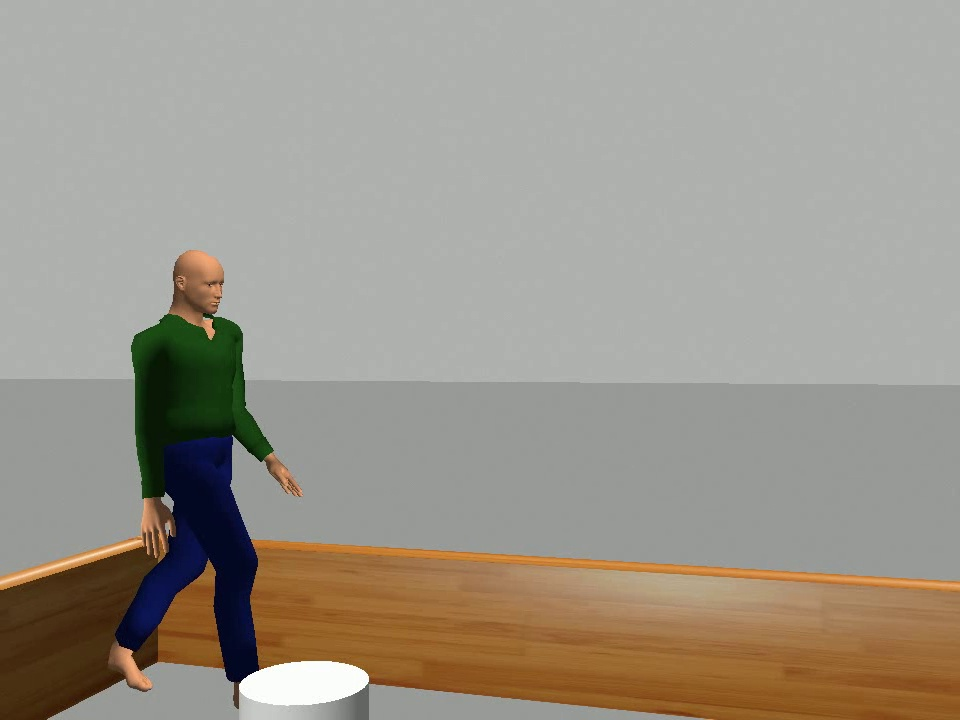person: (104, 241, 308, 716)
